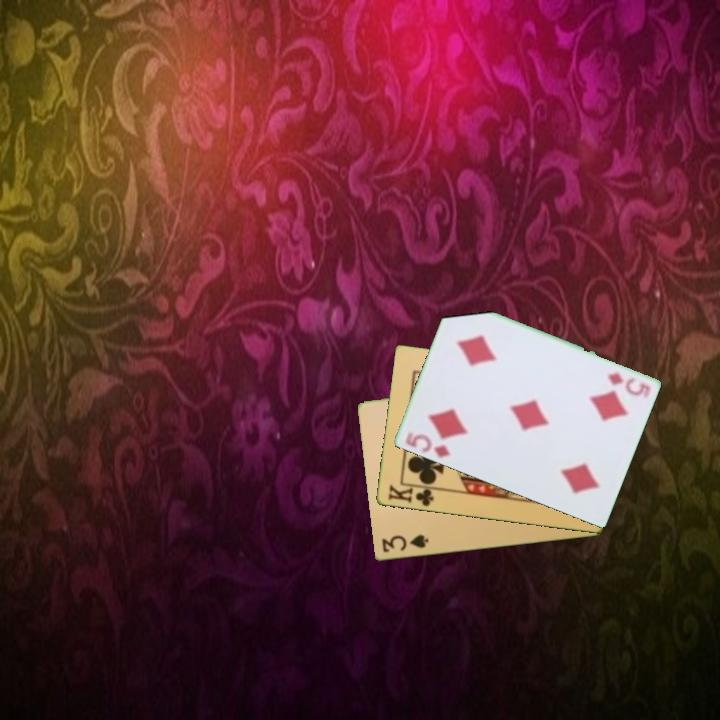3s: (378, 531, 431, 556)
5d: (401, 428, 453, 461), (604, 369, 653, 398)
Kc: (384, 481, 440, 510)
